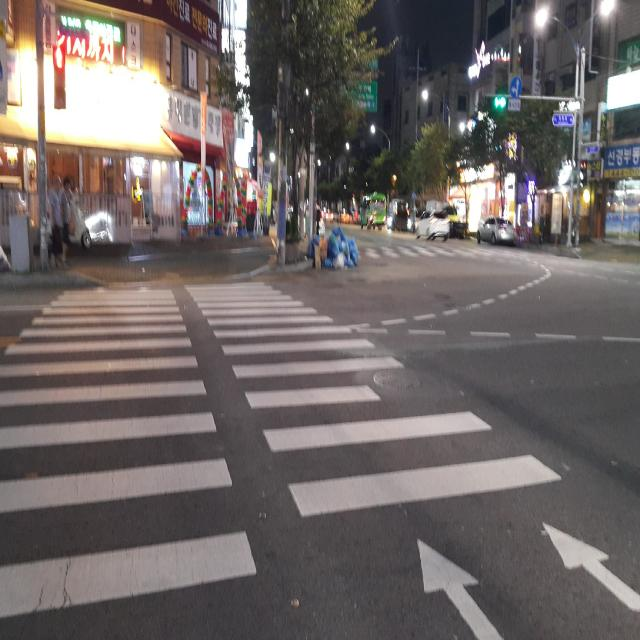빨간불: (52, 46, 66, 106)
횡단보도: (0, 279, 640, 640), (362, 242, 488, 258)
